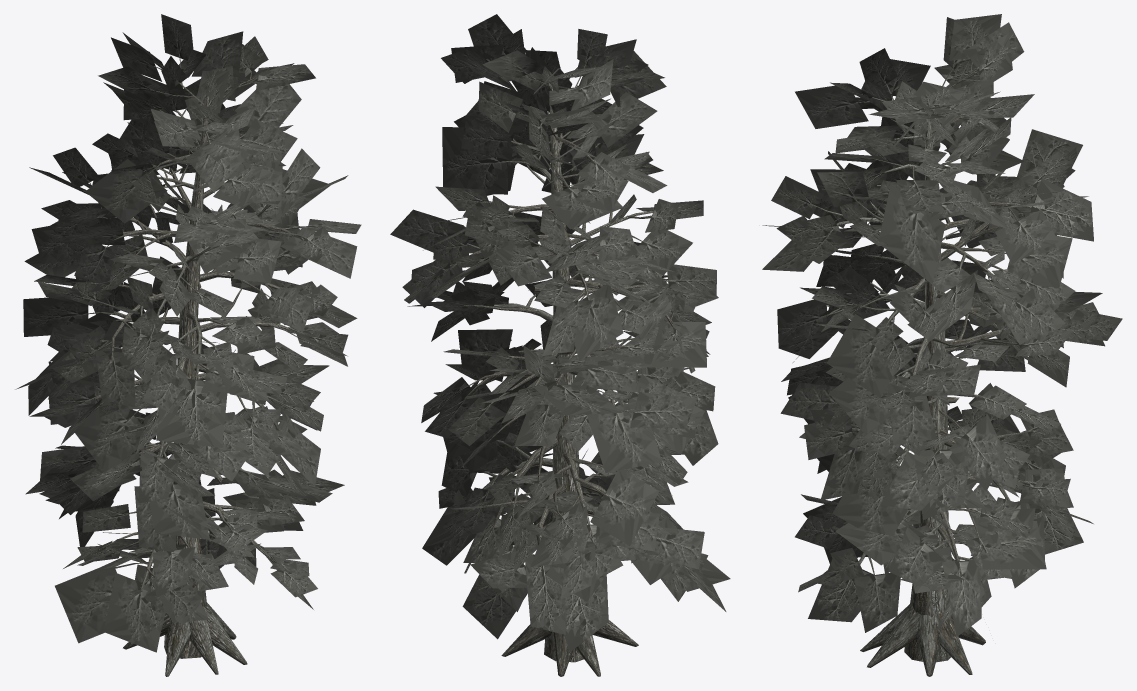
The model's file is mm6_deco_tree27.glb.
3 renders of one model, left to right at view 1: azimuth 30°, elevation 25°; view 2: azimuth 150°, elevation 25°; view 3: azimuth 270°, elevation 25°, orthographic. The views are drawn at different scales.
Parts seen in each view (by area): view 1: Tree; view 2: Tree; view 3: Tree.
Boxes of the visible parts, x1=… form: Tree: x1=15, y1=14, x2=361, y2=676; Tree: x1=390, y1=14, x2=730, y2=676; Tree: x1=762, y1=14, x2=1122, y2=676.
Size of the model in its own units: 1.94 by 3.91 by 2.06.
3 materials, 3 textured.
